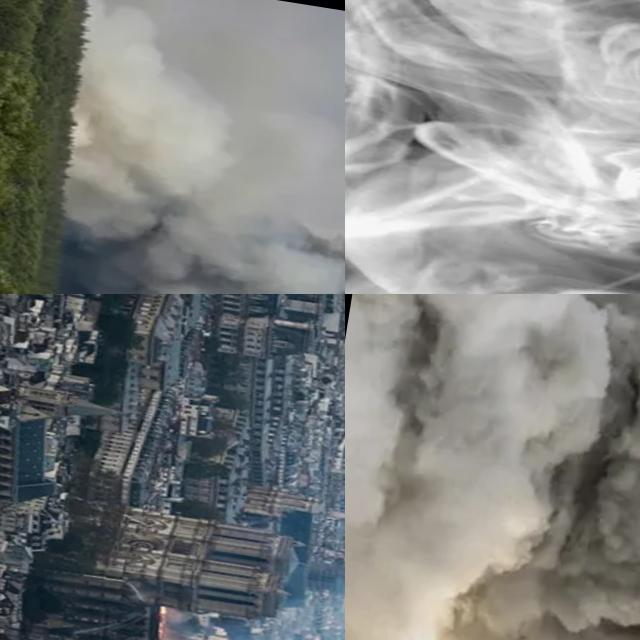smoke: (345, 294, 640, 640), (345, 0, 640, 294), (33, 165, 345, 294)
